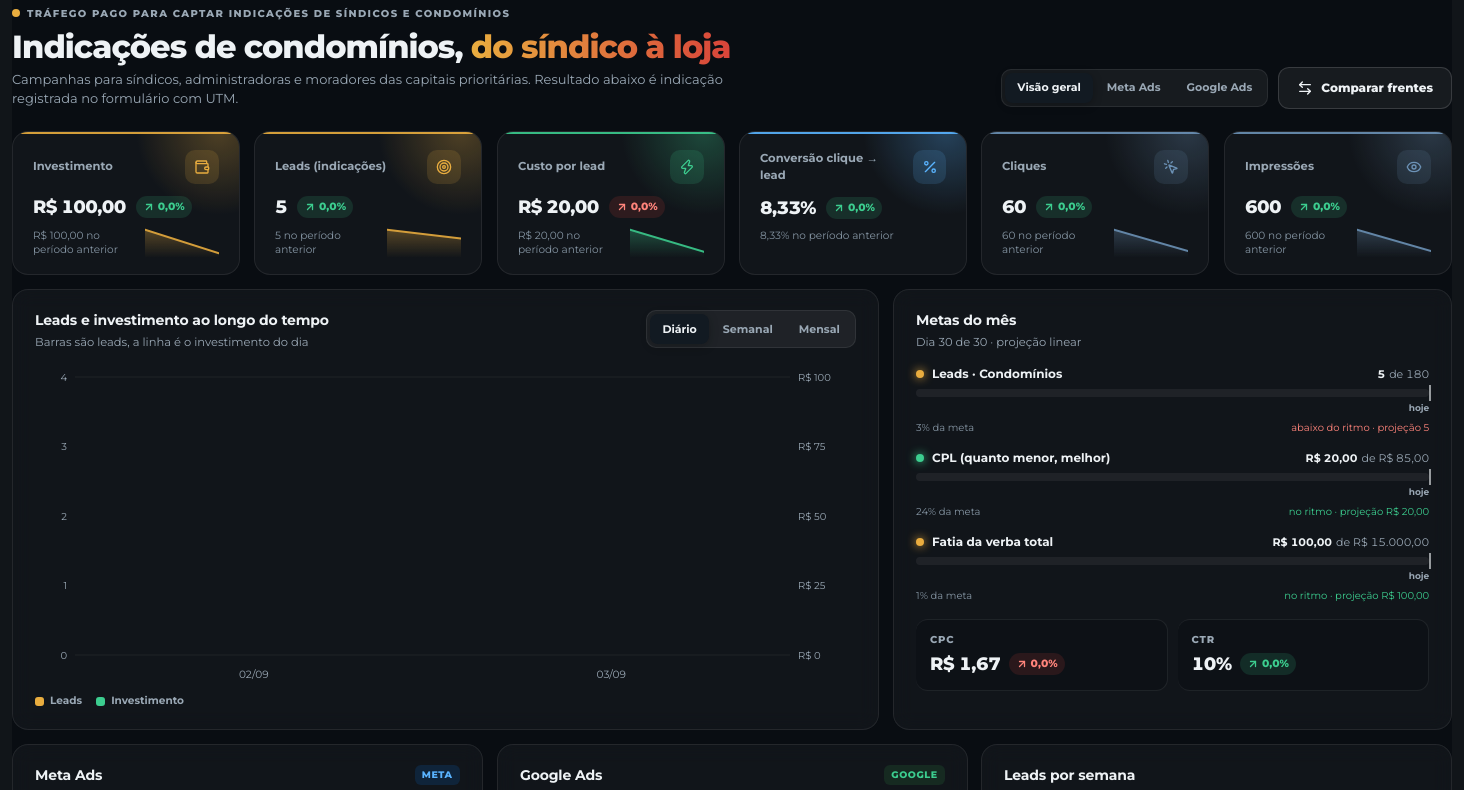
Test: modo Comparar frentes › abre em condominium sem criar uma nova página
The width and height of the screenshot is (1464, 790).
Click the button "Comparar frentes": (1365, 88) top-left (1278, 67), bottom-right (1452, 109)
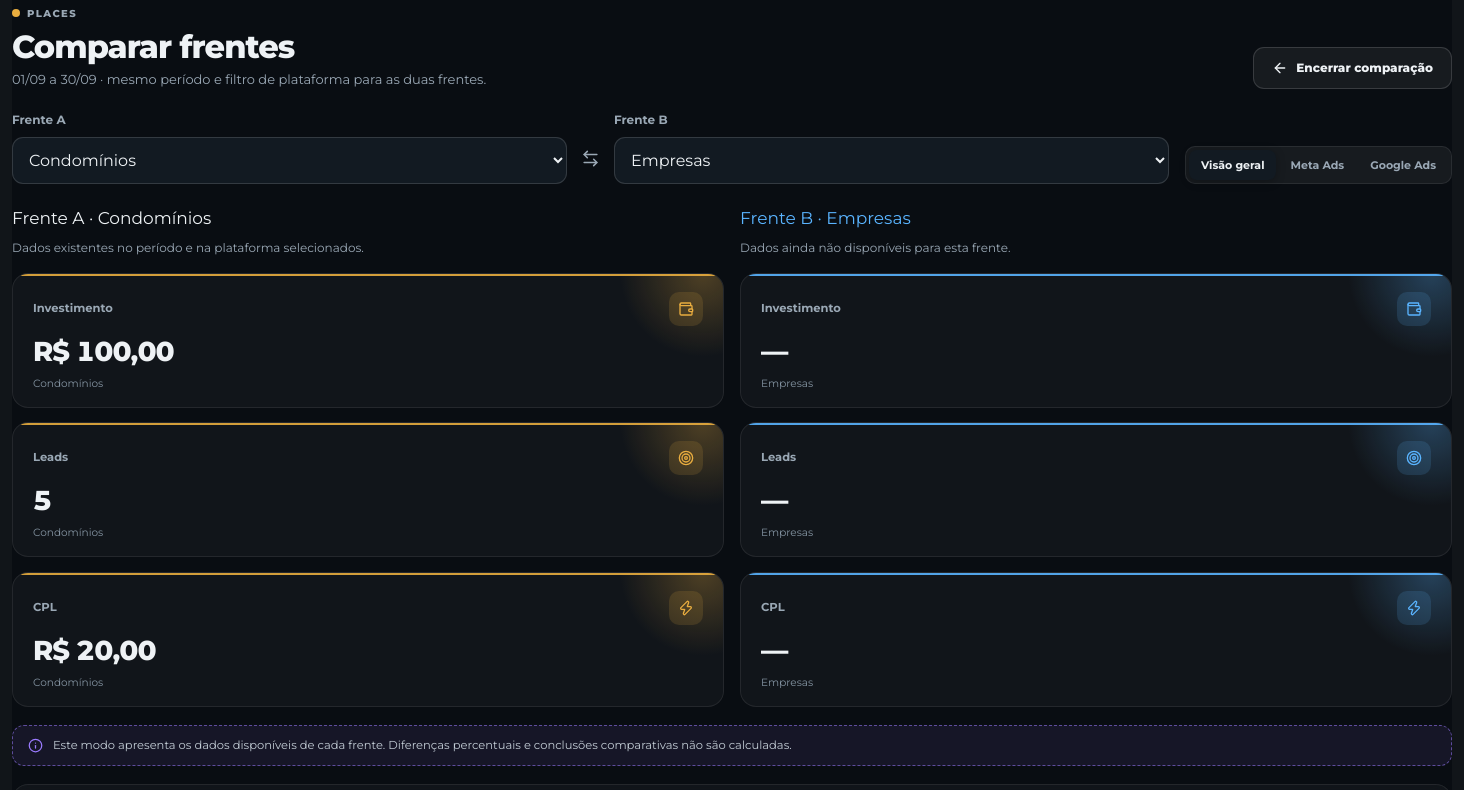
Expected: the dropdown labelled "Frente A" shows "Condomínios", top-left (12, 137), bottom-right (567, 184)
Expected: the dropdown labelled "Frente B" shows "Empresas", top-left (614, 137), bottom-right (1169, 184)
